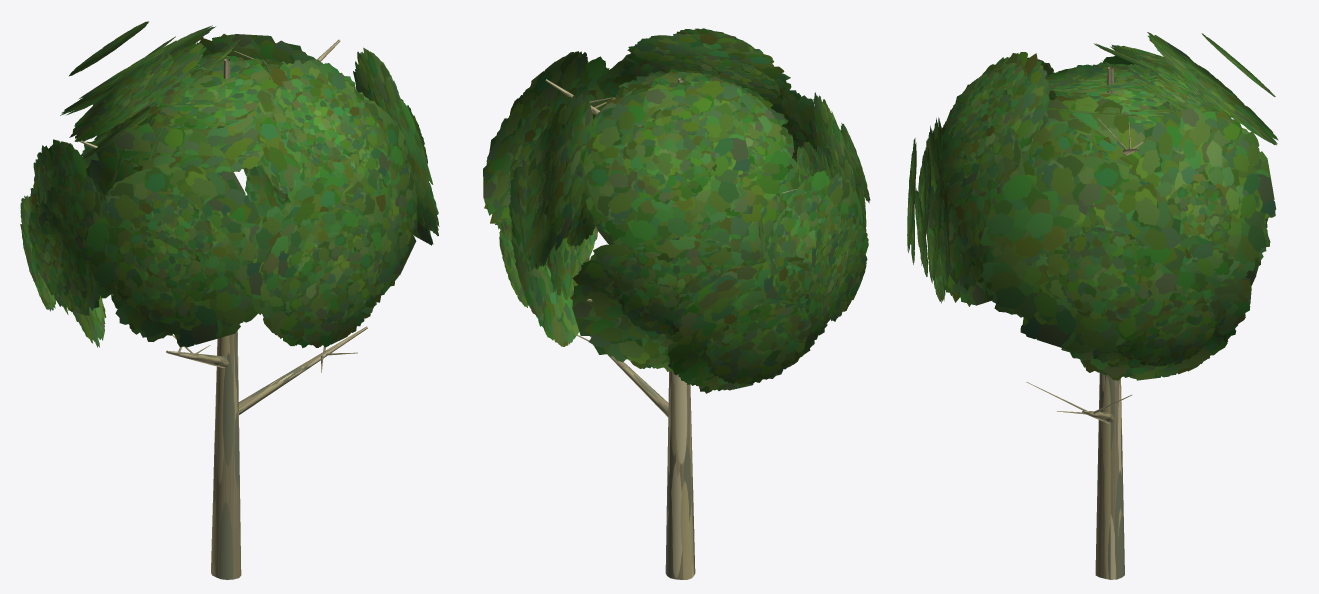
The model's file is LondonPlane_LOD0.fbx.
The picture shows the model from 3 angles, left to right: view 1: azimuth 30°, elevation 25°; view 2: azimuth 150°, elevation 25°; view 3: azimuth 270°, elevation 25°; orthographic projection. The views are drawn at different scales.
Parts seen in each view (by area): view 1: LondonPlane_LOD0; view 2: LondonPlane_LOD0; view 3: LondonPlane_LOD0.
Boxes of the visible parts, x1=… form: LondonPlane_LOD0: x1=20, y1=21, x2=439, y2=579; LondonPlane_LOD0: x1=483, y1=28, x2=870, y2=579; LondonPlane_LOD0: x1=907, y1=32, x2=1278, y2=579.
Size of the model in its own units: 13.96 by 19.82 by 13.29.
Materials: 1 (1 with a texture image).
